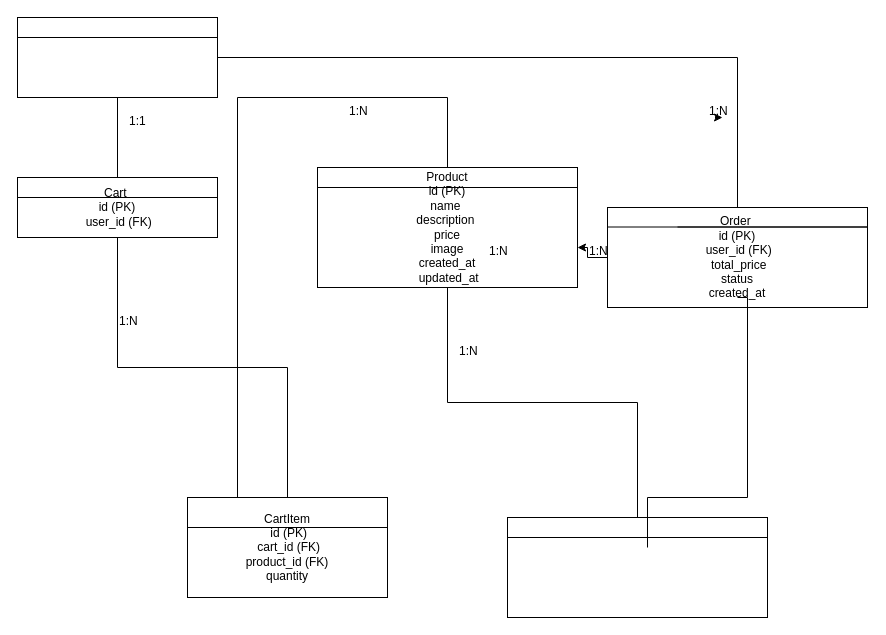
The diagram is 886 pixels wide and 635 high, and some of its shapes have lost their labels. The shapes that lost their labels are listed below. From the top down, each one's centre as x and y in pixels, then its label:
[117,57]: User id (PK) username email password
[637,567]: OrderItem id (PK) order_id (FK) product_id (FK) quantity price
